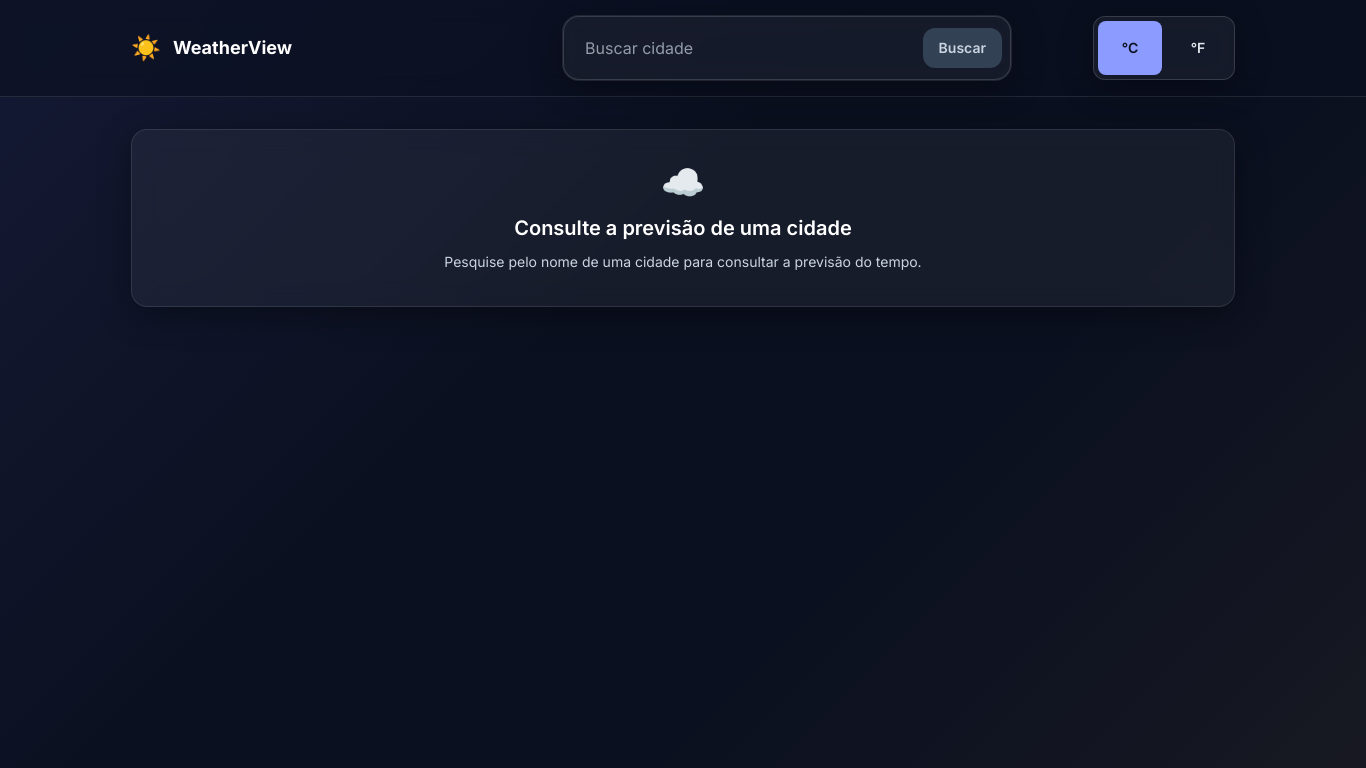
Test case: weather UI › shows the empty state for cities without a local fixture
In the search field named "Nome da cidade": (743, 48) x1=572 y1=25 x2=915 y2=71, type "Lisboa"
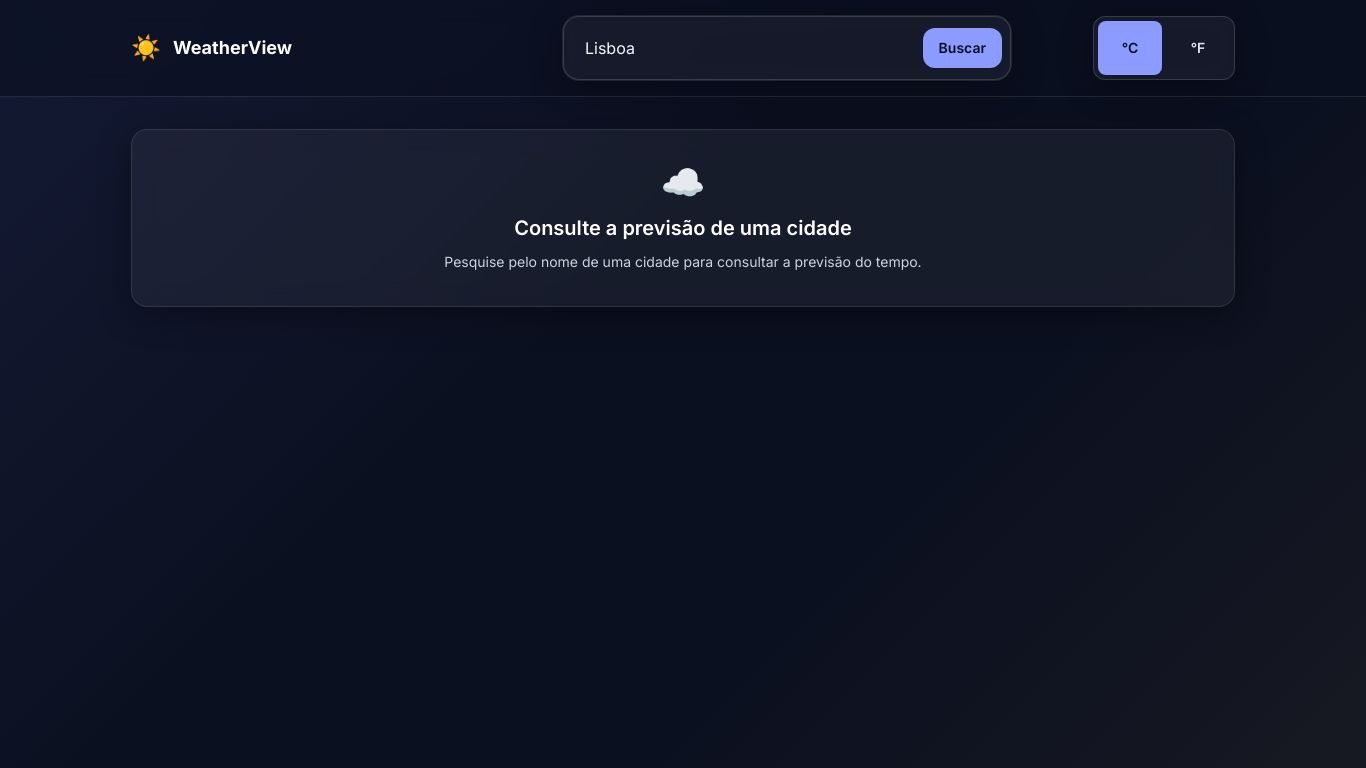
Submit the form, box x1=563 y1=16 x2=1011 y2=80
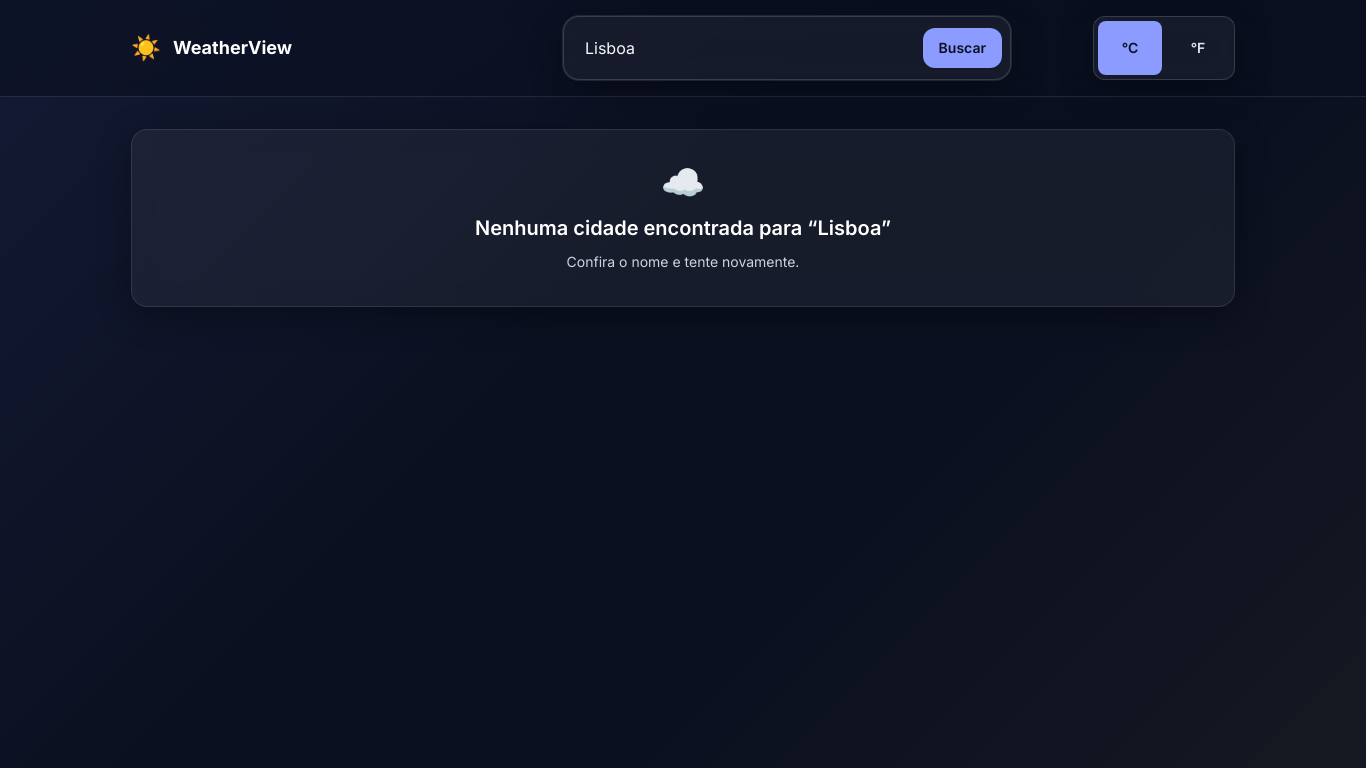
Now the heading "Nenhuma cidade encontrada para “Lisboa”" is shown, box x1=475 y1=216 x2=891 y2=240
